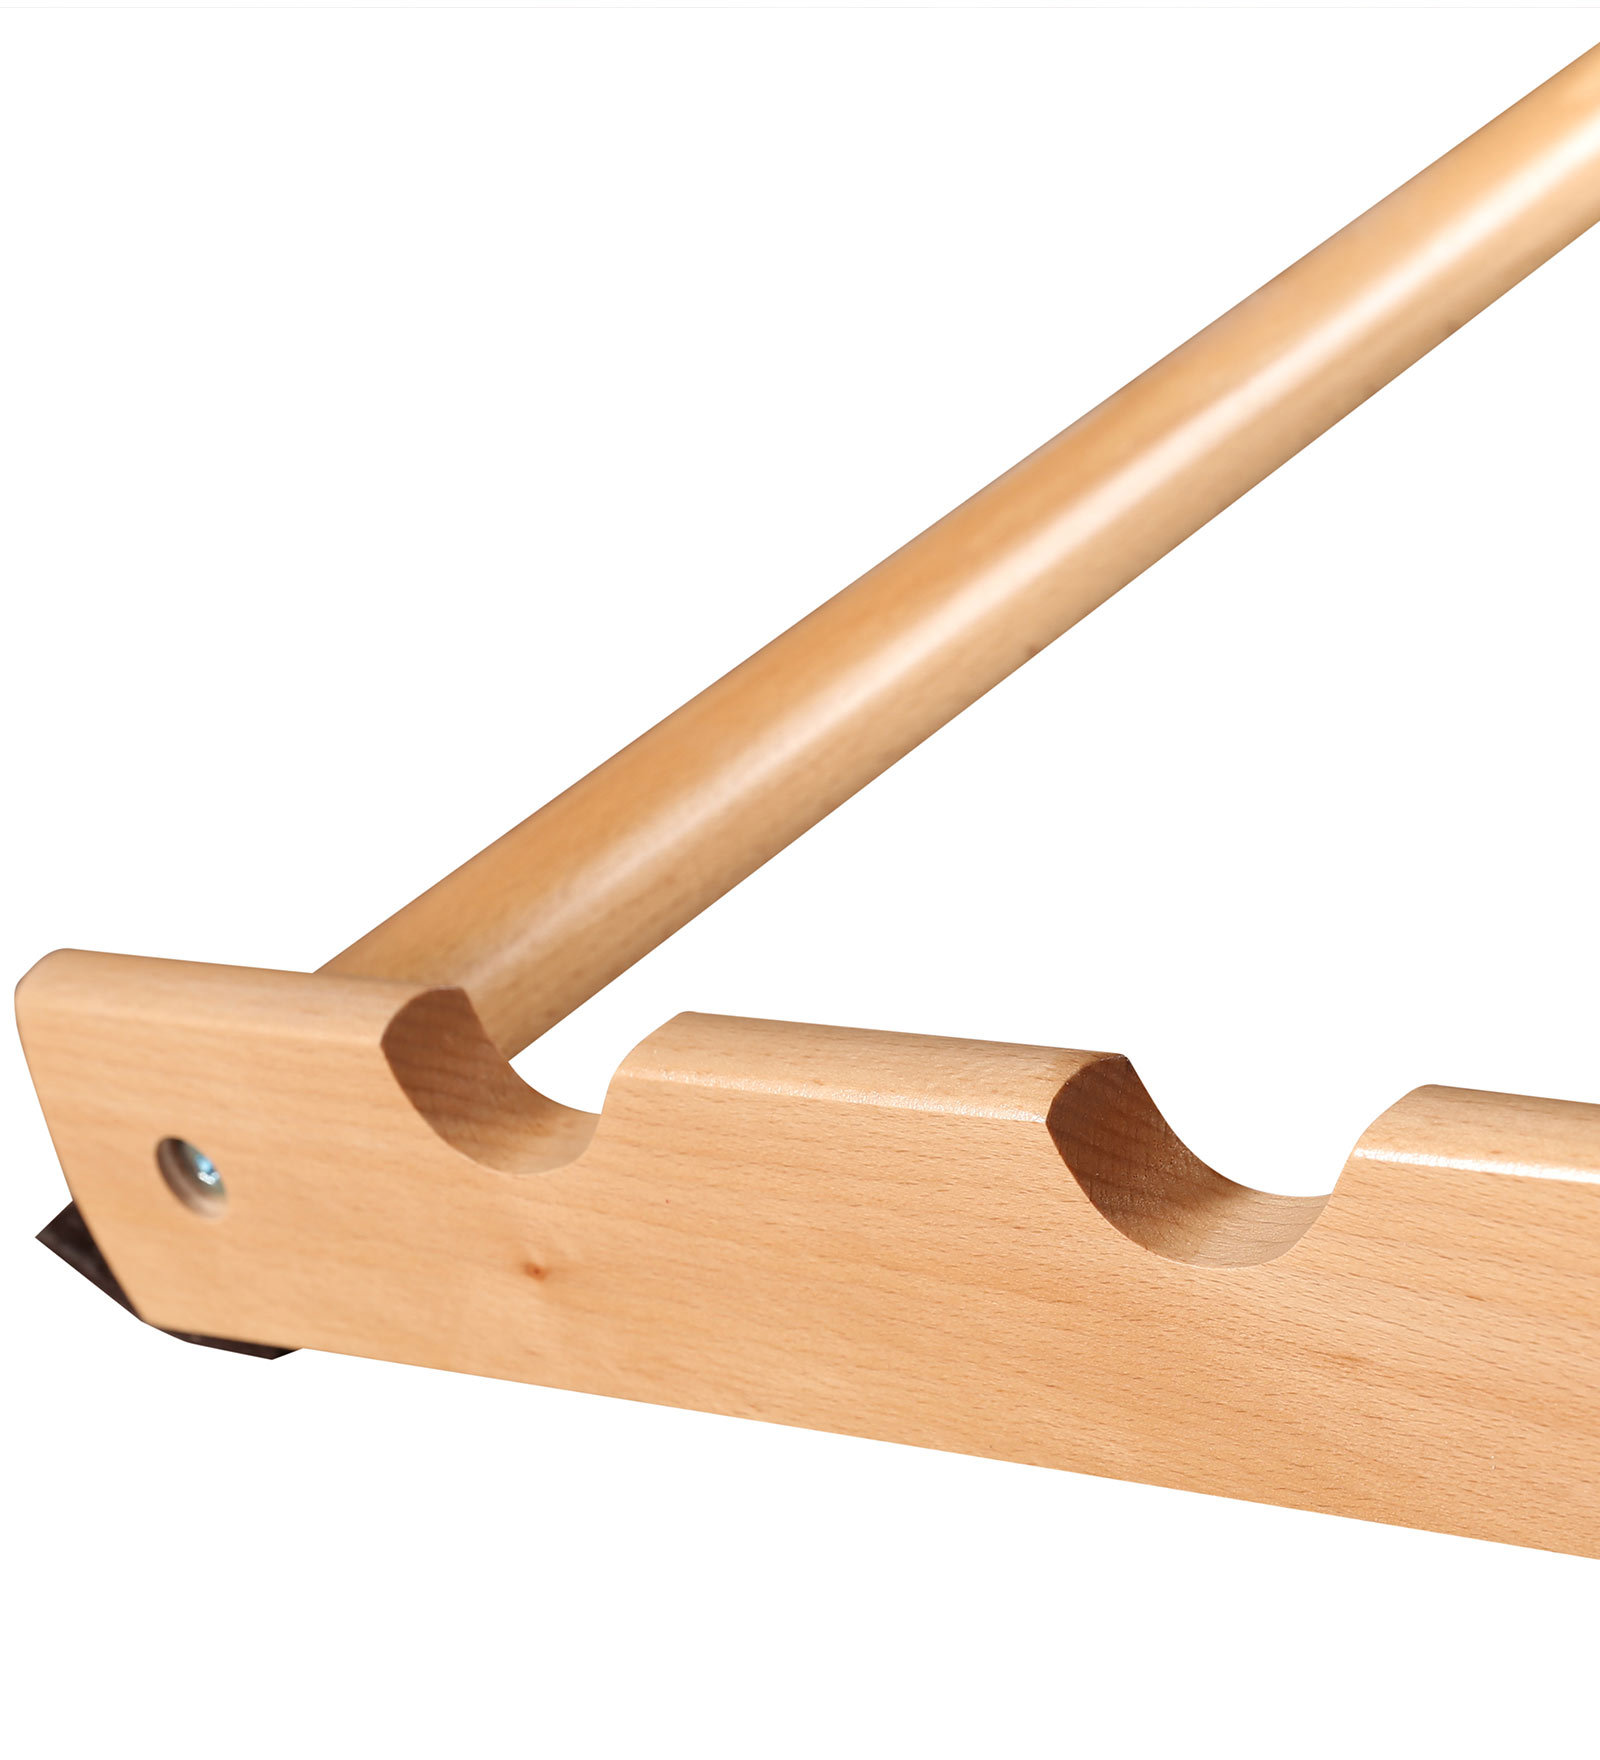Tulip Folding Chair in Beige Finish by HomeTown: (31, 71, 1530, 1702)
